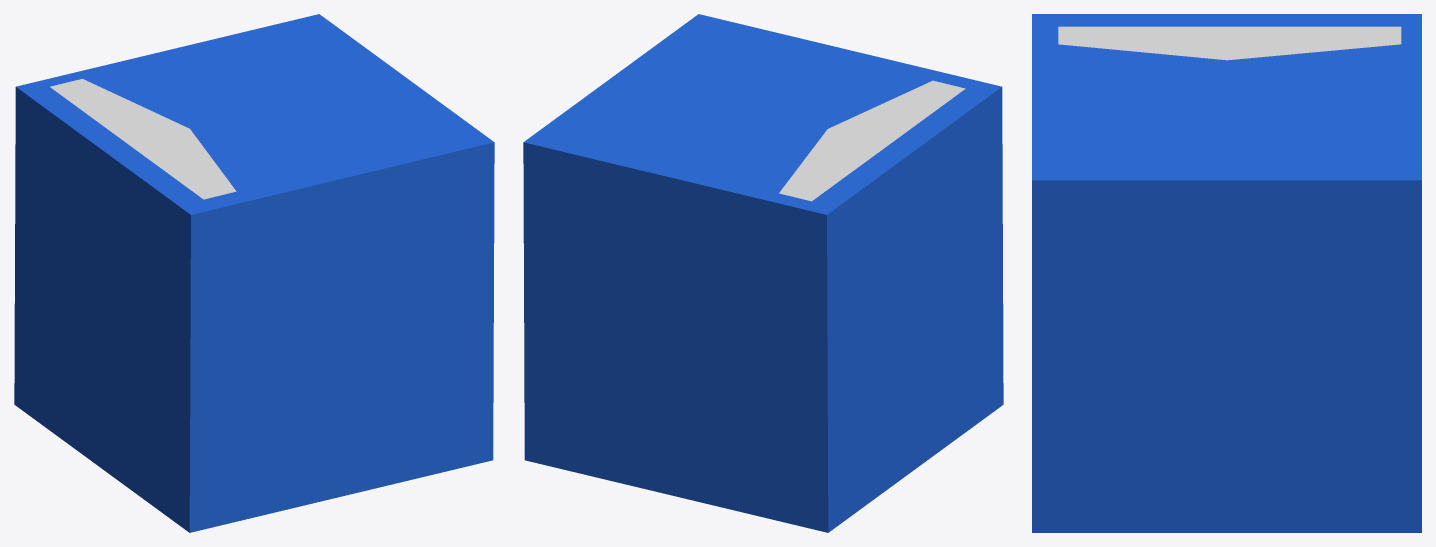
The picture shows the model from 3 angles, left to right: view 1: azimuth 30°, elevation 25°; view 2: azimuth 150°, elevation 25°; view 3: azimuth 270°, elevation 25°; orthographic projection. The views are drawn at different scales.
Parts seen in each view (by area): view 1: Plane; view 2: Plane; view 3: Plane.
Boxes of the visible parts, x1=… form: Plane: x1=14, y1=14, x2=494, y2=532; Plane: x1=523, y1=14, x2=1003, y2=532; Plane: x1=1032, y1=14, x2=1421, y2=532.
Bounding box in the file's own units: 228 × 229 × 227.
